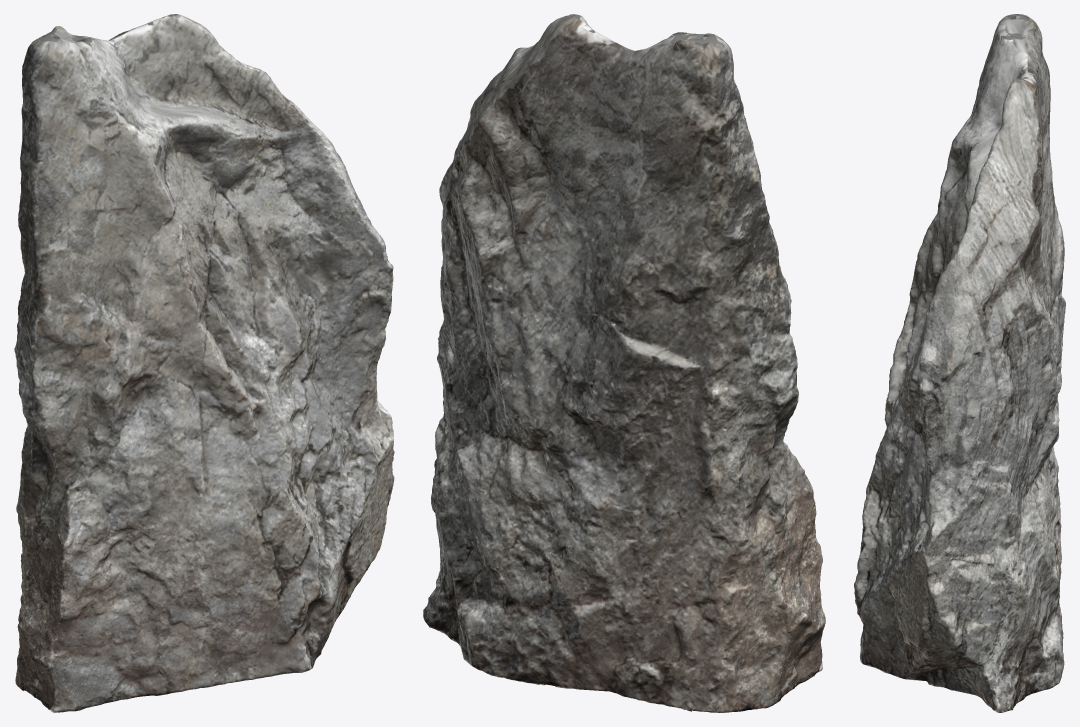
The model's file is sparse2.glb.
The picture shows the model from 3 angles, left to right: view 1: azimuth 30°, elevation 25°; view 2: azimuth 150°, elevation 25°; view 3: azimuth 270°, elevation 25°; orthographic projection. The views are drawn at different scales.
Visible parts, largest first — view 1: Node; view 2: Node; view 3: Node.
Boxes of the visible parts, x1=… form: Node: x1=14, y1=14, x2=394, y2=712; Node: x1=423, y1=14, x2=825, y2=712; Node: x1=854, y1=14, x2=1065, y2=712.
Bounding box in the file's own units: 3.16 × 5.28 × 1.74.
Materials: 1 (1 with a texture image).
